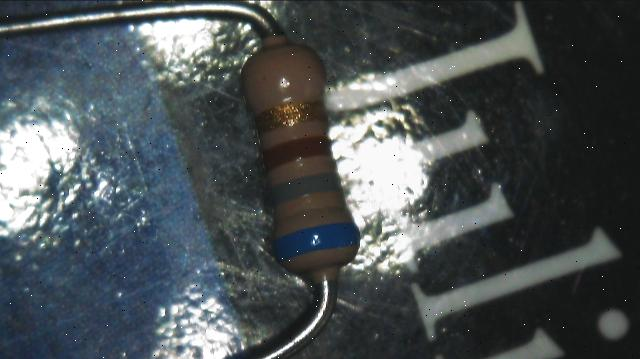blue: (273, 223, 359, 261)
brown: (264, 136, 332, 171)
gold: (254, 100, 325, 133)
grey: (271, 174, 340, 202)
resistor: (222, 19, 385, 320)
